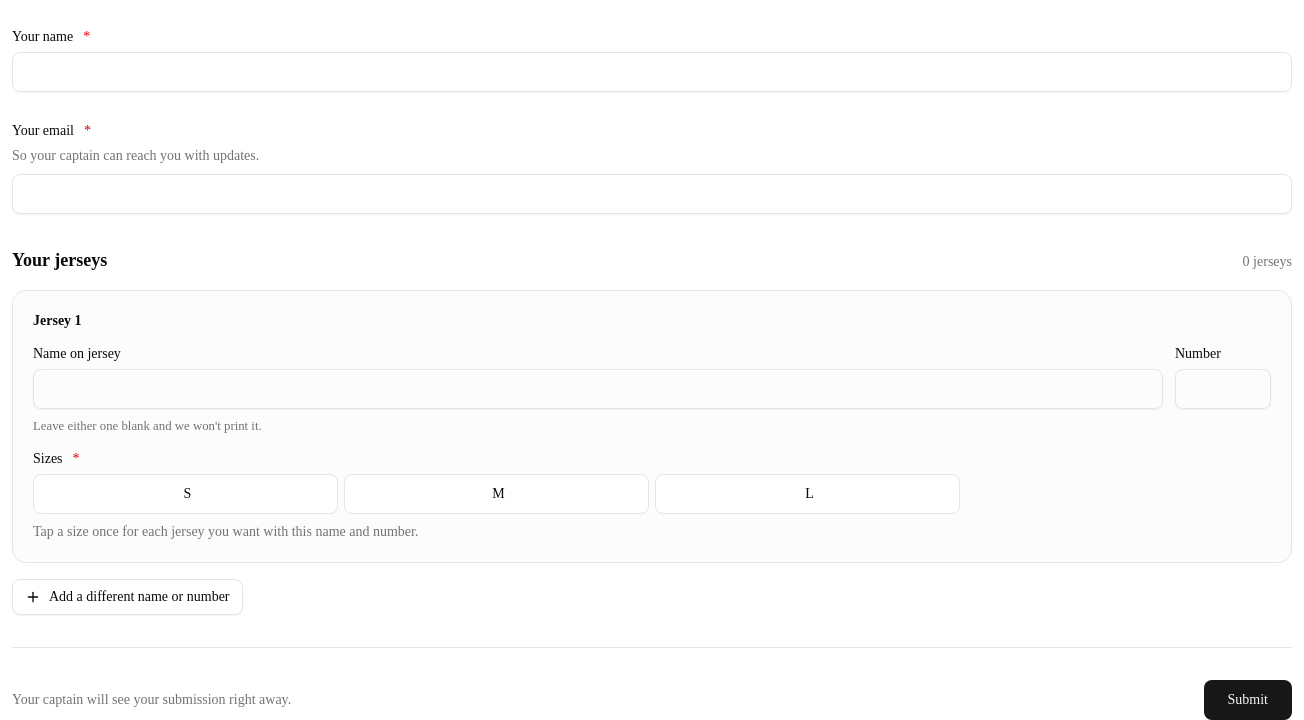
PublicOrderForm › surfaces validation errors when submitting an empty form
The width and height of the screenshot is (1304, 720).
(page scrolled)
Click the button "Submit": {"x": 1248, "y": 700} [1204, 680, 1292, 719]
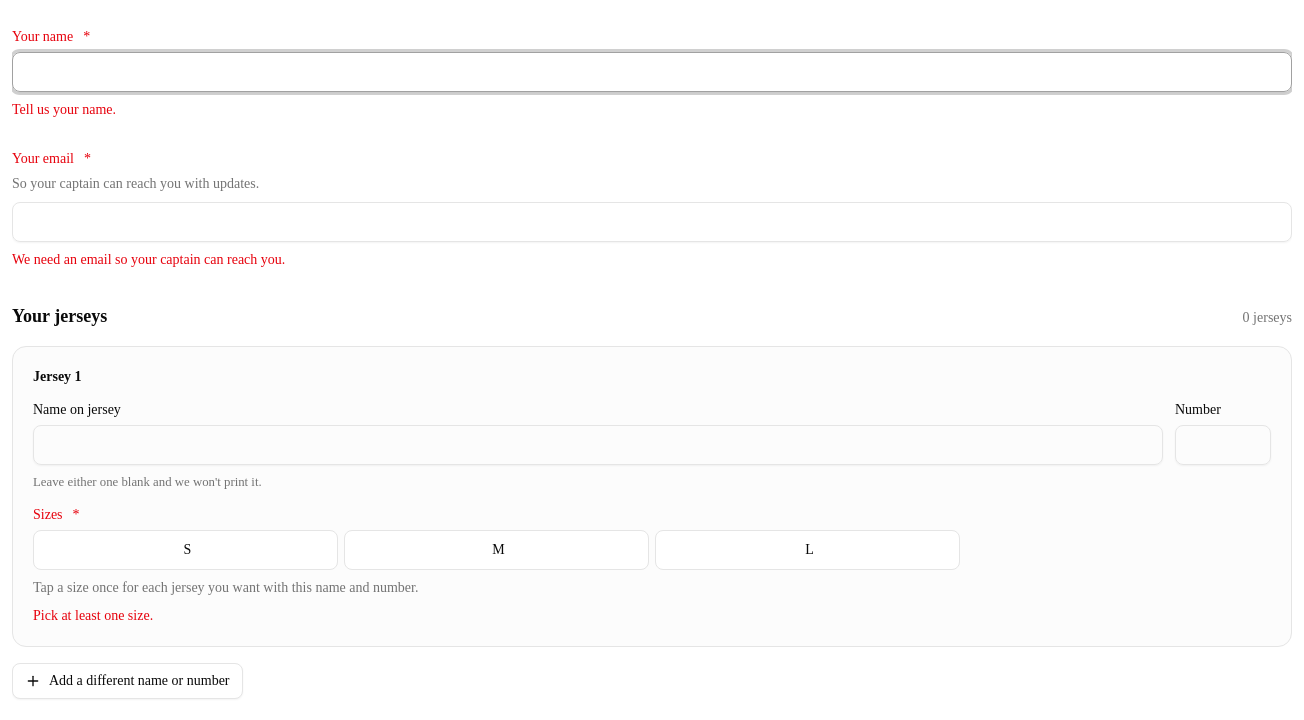
Check: the text "Tell us your name." is shown, box [12, 102, 116, 117]
Check: the text "We need an email so your captain can reach you." is shown, box [12, 252, 285, 267]
Check: the text "Pick at least one size." is shown, box [33, 608, 153, 623]
